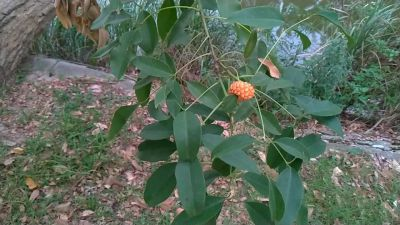eggs: (231, 76, 256, 104)
